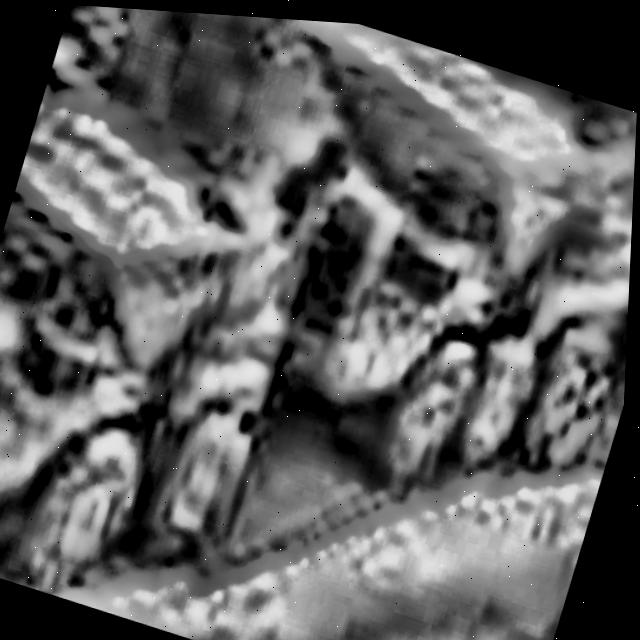dump_truck: (0, 0, 368, 640), (199, 11, 640, 521)
